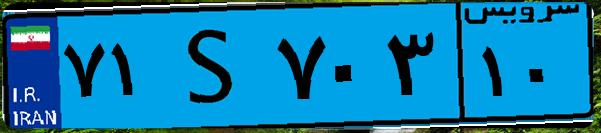0: (330, 28, 385, 110), (525, 38, 570, 115)
1: (475, 38, 525, 113), (110, 28, 158, 98)
3: (385, 28, 445, 110)
7: (270, 28, 330, 110), (57, 26, 110, 100)
S: (158, 12, 270, 120)
